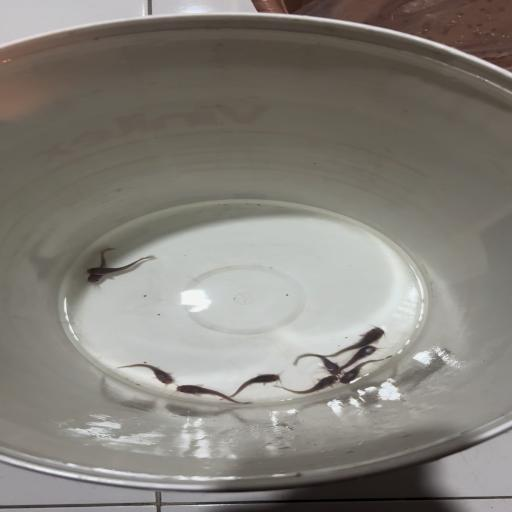lele: (319, 324, 387, 357), (173, 382, 254, 406), (218, 372, 283, 400), (82, 254, 156, 276), (338, 355, 394, 384), (115, 362, 176, 386), (272, 375, 340, 396), (333, 344, 381, 372), (291, 351, 342, 375), (85, 246, 117, 284)
